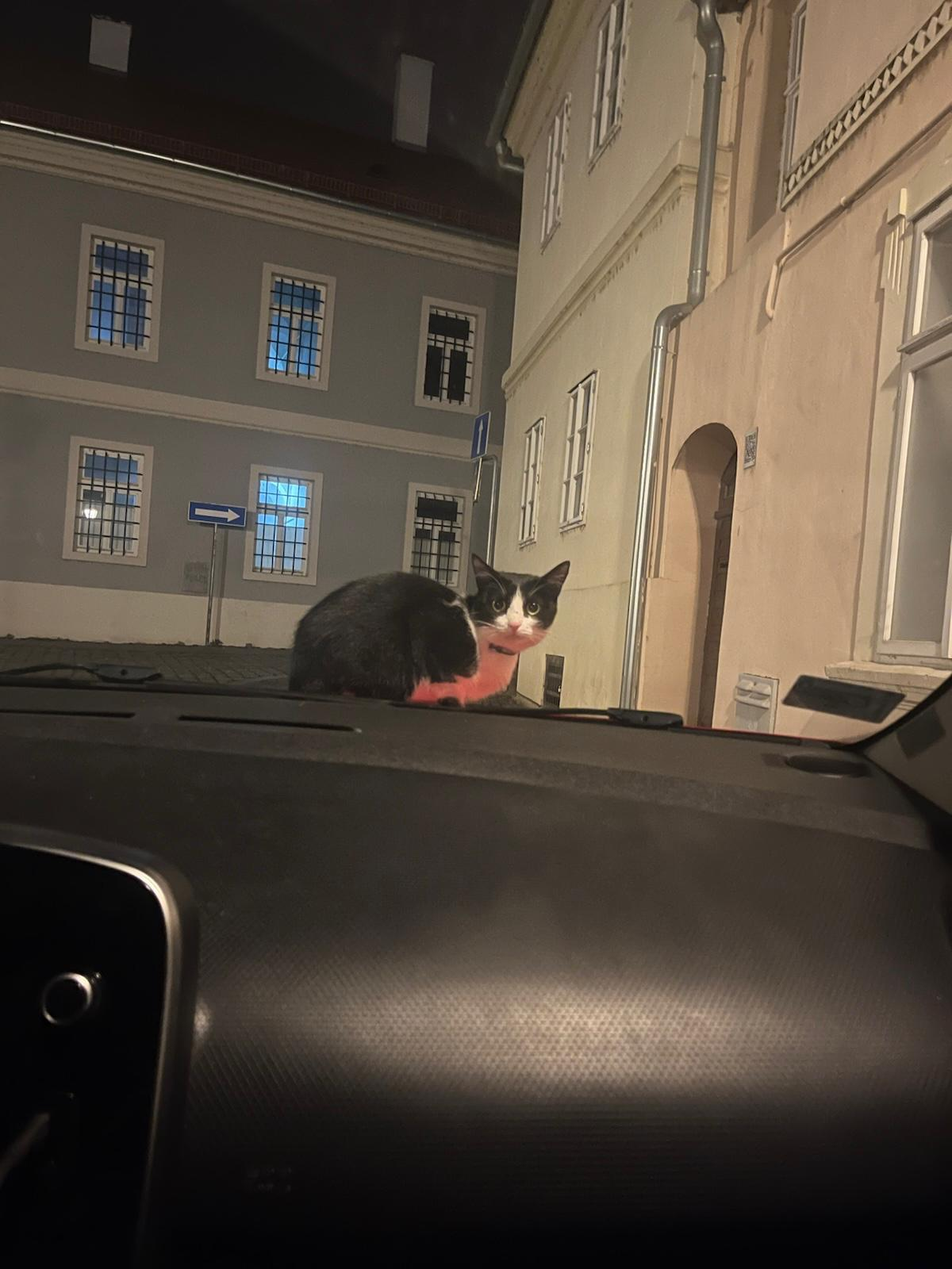macka: (290, 551, 571, 703)
